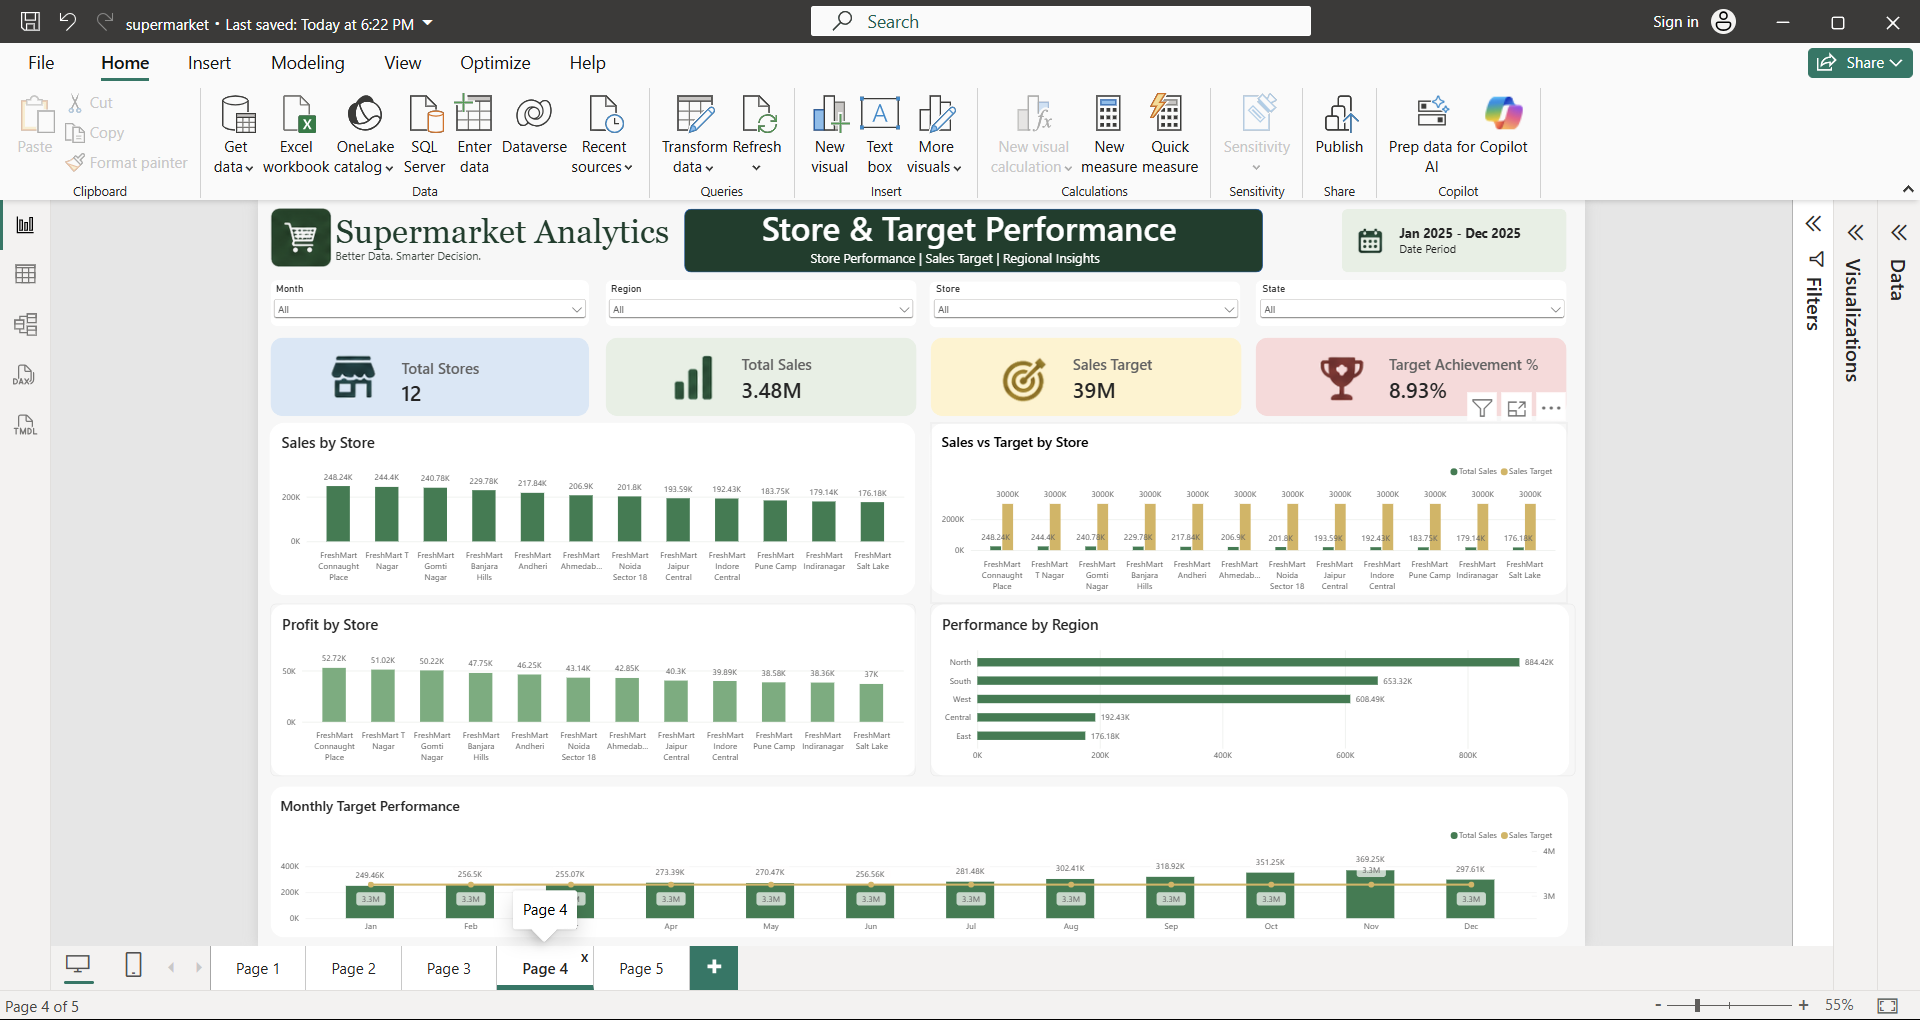

Layout of this report page (visuals, bound fields, positions):
{"tool":"powerbi","page":{"name":"Page 4","canvas":[1920,1080],"ordinal":3},"visuals":[{"type":"image","box":[0,0,124.9,108.6],"z":0},{"type":"textbox","box":[112.2,19,617.1,63.3],"z":1000},{"type":"textbox","box":[112.2,69,617.1,47.1],"z":2000},{"type":"shape","box":[617.1,12.7,837.9,92.3],"z":3000},{"type":"textbox","box":[729.3,7,628,79.6],"z":4000},{"type":"textbox","box":[799.9,71,537.5,39.8],"z":5000},{"type":"shape","box":[1569,12.7,325.7,92.3],"z":6000},{"type":"image","box":[1569,34.4,83.2,48.9],"z":7000},{"type":"textbox","box":[1652.2,34.4,228,347.5],"z":8000},{"type":"shape","box":[18.1,115.8,461.5,67],"z":9000},{"type":"shape","box":[503.1,115.8,450.6,67],"z":10000},{"type":"shape","box":[971.8,117.6,450.6,67],"z":11000},{"type":"shape","box":[1444.1,115.8,450.6,67],"z":12000},{"type":"slicer","fields":{"Values":["DateTable.Month"]},"box":[18.1,119.4,461.5,65.1],"z":13000},{"type":"slicer","fields":{"Values":["stores.Region"]},"box":[503.1,119.4,450.6,65.1],"z":14000},{"type":"slicer","fields":{"Values":["stores.StoreName"]},"box":[973.6,119.4,450.6,65.1],"z":15000},{"type":"slicer","fields":{"Values":["stores.State"]},"box":[1445.9,119.4,450.6,65.1],"z":16000},{"type":"shape","box":[18.1,199.1,461.5,114],"z":17000},{"type":"shape","box":[503.1,199.1,450.6,114],"z":18000},{"type":"shape","box":[973.6,199.1,450.6,114],"z":19000},{"type":"shape","box":[1444.1,199.1,450.6,114],"z":20000},{"type":"image","box":[85.1,211.7,106.8,88.7],"z":21000},{"type":"cardVisual","fields":{"Data":["All_Measures.Total Stores"]},"box":[191.8,190,287.7,150.2],"z":22000},{"type":"image","box":[577.3,213.5,106,88],"z":23000},{"type":"cardVisual","fields":{"Data":["All_Measures.Total Sales"]},"box":[684.1,184.6,233.4,150.2],"z":24000},{"type":"image","box":[1056.8,217.2,106,88],"z":25000},{"type":"cardVisual","fields":{"Data":["All_Measures.Sales Target"]},"box":[1163.6,184.6,233.4,150.2],"z":26000},{"type":"image","box":[1514.7,215.3,108,88],"z":27000},{"type":"cardVisual","fields":{"Data":["All_Measures.Target Achievement %"]},"box":[1621.5,184.6,258.8,150.2],"z":28000},{"type":"shape","box":[17,322,935.6,250],"z":29000},{"type":"shape","box":[18.1,584.5,935.6,250],"z":30000},{"type":"shape","box":[18.1,848.7,1878.4,219],"z":31000},{"type":"shape","box":[971.8,322.1,924.7,249.7],"z":32000},{"type":"shape","box":[973.6,584.5,924.7,249.7],"z":33000},{"type":"columnChart","title":"Sales by Store","fields":{"Category":["stores.StoreName"],"Y":["All_Measures.Total Sales"]},"box":[18.1,322.1,933.8,249.7],"z":34000},{"type":"clusteredColumnChart","title":"Sales vs Target by Store","fields":{"Category":["stores.StoreName"],"Y":["All_Measures.Total Sales","All_Measures.Sales Target"]},"box":[973.6,322.1,921.1,262.4],"z":35000},{"type":"columnChart","title":"Profit by Store","fields":{"Category":["stores.StoreName"],"Y":["All_Measures.Total Profit"]},"box":[18.1,584.5,933.8,249.7],"z":36000},{"type":"barChart","title":"Performance by Region","fields":{"Y":["All_Measures.Total Sales"],"Category":["stores.Region"]},"box":[973.6,584.5,933.8,249.7],"z":37000},{"type":"lineClusteredColumnComboChart","title":"Monthly Target Performance","fields":{"Category":["DateTable.Month"],"Y":["All_Measures.Total Sales"],"Y2":["All_Measures.Sales Target"]},"box":[16.3,848.7,1878.4,231.6],"z":38000}]}

Visuals, with their boxes on the page's 1920x1080 design canvas (x1, y1, x2, y2). These are canvas units, not pixel positions in the 1920x1020 screenshot, which may show the page scaled, cropped or inside an application window:
image: (0,0,125,109)
textbox: (112,19,729,82)
textbox: (112,69,729,116)
shape: (617,13,1455,105)
textbox: (729,7,1357,87)
textbox: (800,71,1337,111)
shape: (1569,13,1895,105)
image: (1569,34,1652,83)
textbox: (1652,34,1880,382)
shape: (18,116,480,183)
shape: (503,116,954,183)
shape: (972,118,1422,185)
shape: (1444,116,1895,183)
slicer - DateTable.Month: (18,119,480,184)
slicer - stores.Region: (503,119,954,184)
slicer - stores.StoreName: (974,119,1424,184)
slicer - stores.State: (1446,119,1896,184)
shape: (18,199,480,313)
shape: (503,199,954,313)
shape: (974,199,1424,313)
shape: (1444,199,1895,313)
image: (85,212,192,300)
cardVisual - All_Measures.Total Stores: (192,190,480,340)
image: (577,214,683,302)
cardVisual - All_Measures.Total Sales: (684,185,918,335)
image: (1057,217,1163,305)
cardVisual - All_Measures.Sales Target: (1164,185,1397,335)
image: (1515,215,1623,303)
cardVisual - All_Measures.Target Achievement %: (1622,185,1880,335)
shape: (17,322,953,572)
shape: (18,584,954,834)
shape: (18,849,1896,1068)
shape: (972,322,1896,572)
shape: (974,584,1898,834)
"Sales by Store" columnChart: (18,322,952,572)
"Sales vs Target by Store" clusteredColumnChart: (974,322,1895,584)
"Profit by Store" columnChart: (18,584,952,834)
"Performance by Region" barChart: (974,584,1907,834)
"Monthly Target Performance" lineClusteredColumnComboChart: (16,849,1895,1080)
